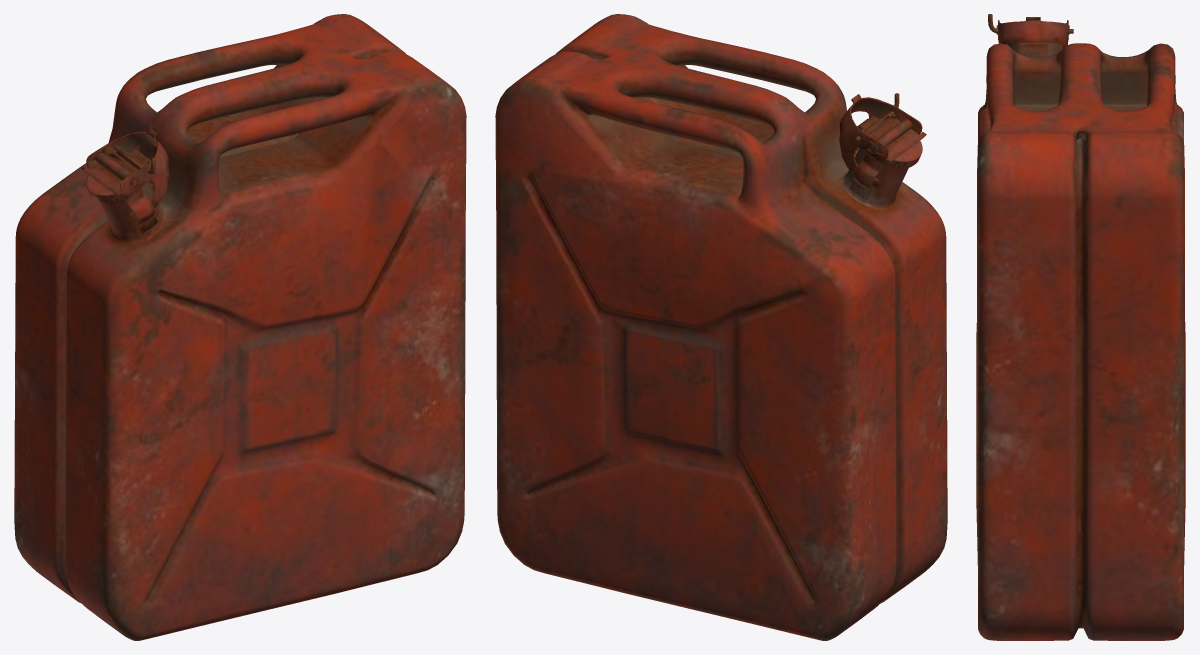
The model's file is metal_jerrycan.glb.
3 renders of one model, left to right at view 1: azimuth 30°, elevation 25°; view 2: azimuth 150°, elevation 25°; view 3: azimuth 270°, elevation 25°, orthographic. The views are drawn at different scales.
Visible parts, largest first — view 1: metal_jerrycan; view 2: metal_jerrycan; view 3: metal_jerrycan.
Part boxes in pixels (x1,y1,x2,y2): metal_jerrycan: [14, 14, 466, 640]; metal_jerrycan: [495, 14, 947, 640]; metal_jerrycan: [976, 14, 1185, 640].
Bounding box in the file's own units: 0.3503 × 0.4552 × 0.1718.
Materials: 1 (1 with a texture image).
